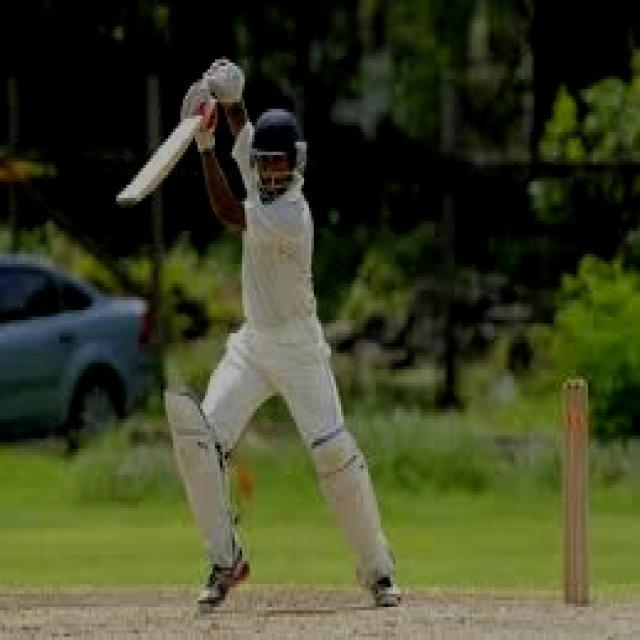bat: (112, 99, 211, 213)
toe: (110, 190, 144, 205)
